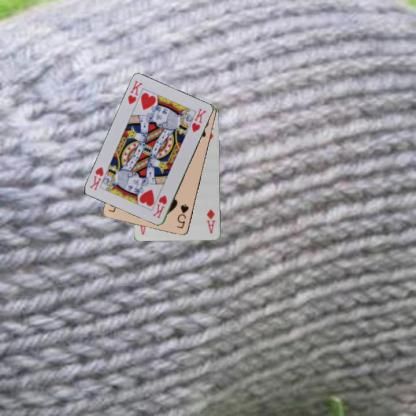5s: (175, 202, 190, 230)
Ad: (204, 207, 217, 234)
Kh: (125, 78, 144, 106), (150, 192, 168, 220)
